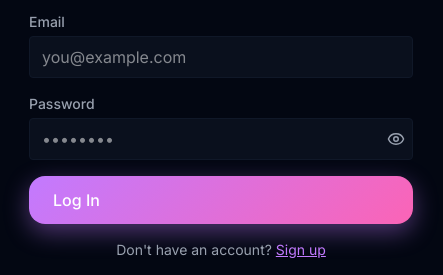
Test: LoginForm › shows loading state during login
Type "test@example.com" into the field labelled "Email".
click(221, 57); type("test@example.com")  # box [29,36,413,78]
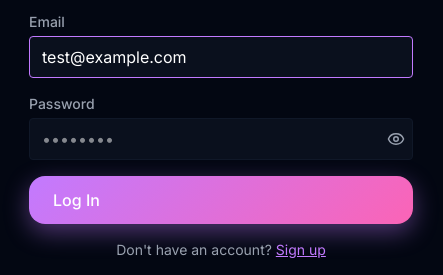
Type "secret123" into the password field labelled "Password".
click(221, 139); type("secret123")  # box [29,118,413,160]
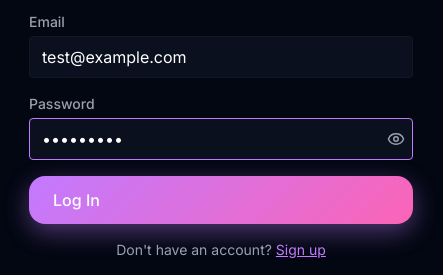
Click the button "Log In".
click(76, 200)  # box [29,176,413,224]
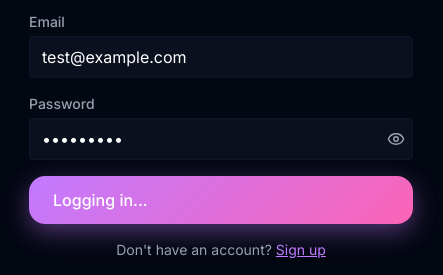
Now the button "Logging in..." is disabled, box [29,176,413,224]
